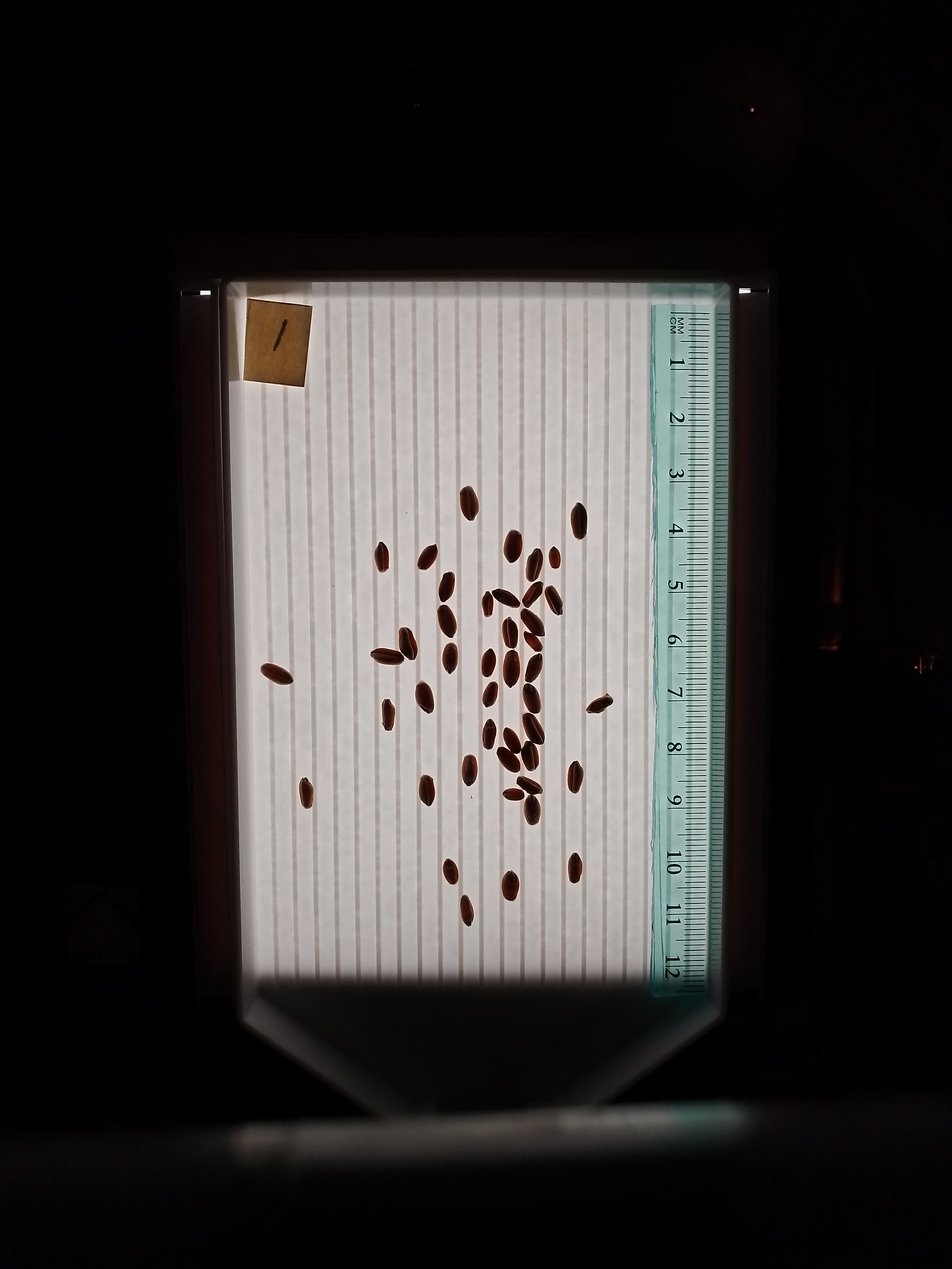seed mask: (261, 664, 293, 685), (460, 486, 479, 520), (523, 714, 544, 744), (570, 503, 587, 540), (399, 627, 417, 660), (503, 653, 520, 687), (498, 747, 520, 773), (504, 530, 521, 563), (416, 682, 434, 713), (438, 606, 456, 637), (567, 762, 584, 793), (526, 549, 543, 580), (521, 742, 539, 771), (545, 586, 563, 615), (524, 795, 541, 825), (522, 613, 544, 636), (523, 685, 541, 713), (418, 545, 438, 570), (461, 755, 477, 786), (372, 649, 403, 665), (493, 589, 519, 608), (502, 872, 519, 901), (419, 775, 435, 805), (517, 776, 542, 795), (567, 854, 583, 883), (587, 695, 612, 713), (526, 655, 543, 681), (443, 644, 458, 673), (503, 619, 518, 648), (374, 543, 389, 572), (381, 700, 395, 731), (460, 895, 474, 925), (299, 779, 313, 809), (439, 573, 454, 601), (524, 583, 542, 606), (483, 720, 497, 749), (443, 859, 459, 884), (504, 728, 520, 753), (481, 650, 496, 675), (483, 683, 498, 707), (525, 633, 541, 651), (482, 593, 493, 616), (549, 548, 561, 569), (504, 789, 523, 801)
